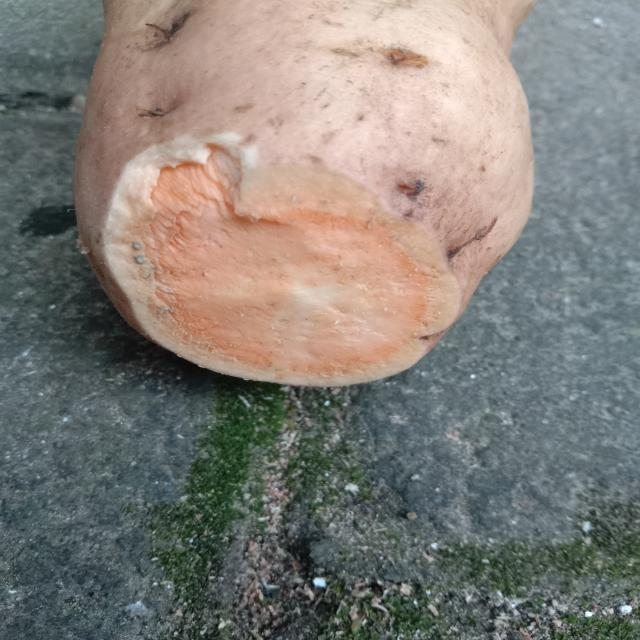Healthy Sweet Potato: (103, 134, 460, 386)
